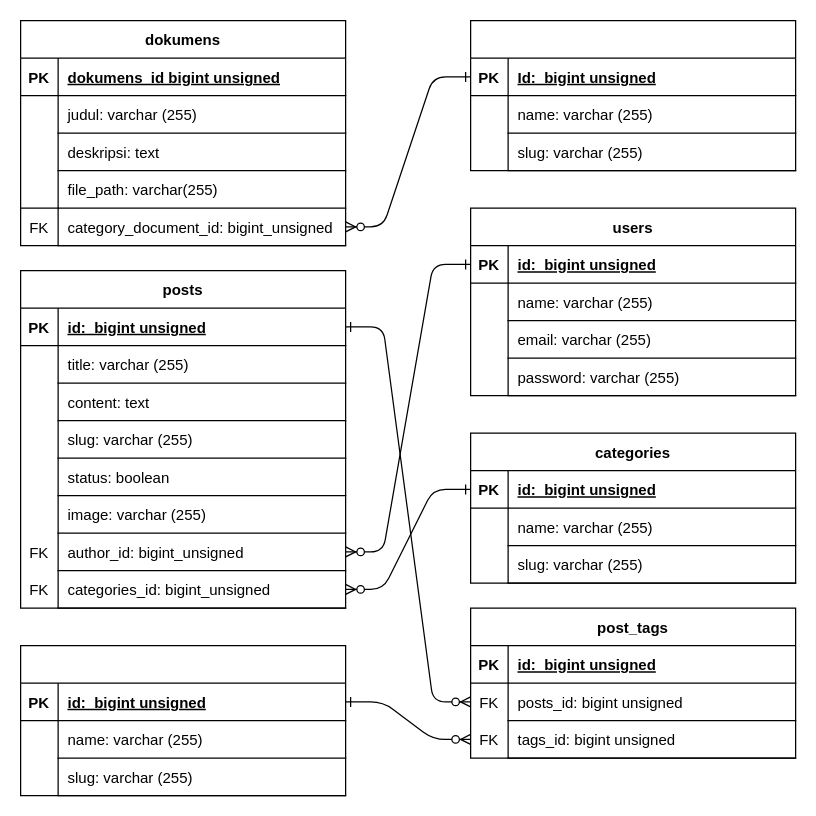
This 816x816 diagram has some shape labels left out. The box of each missing label's shape, as (x1, y1, x2, y2) in pixels:
category_documents: (469, 19, 796, 171)
tags: (19, 644, 346, 796)
